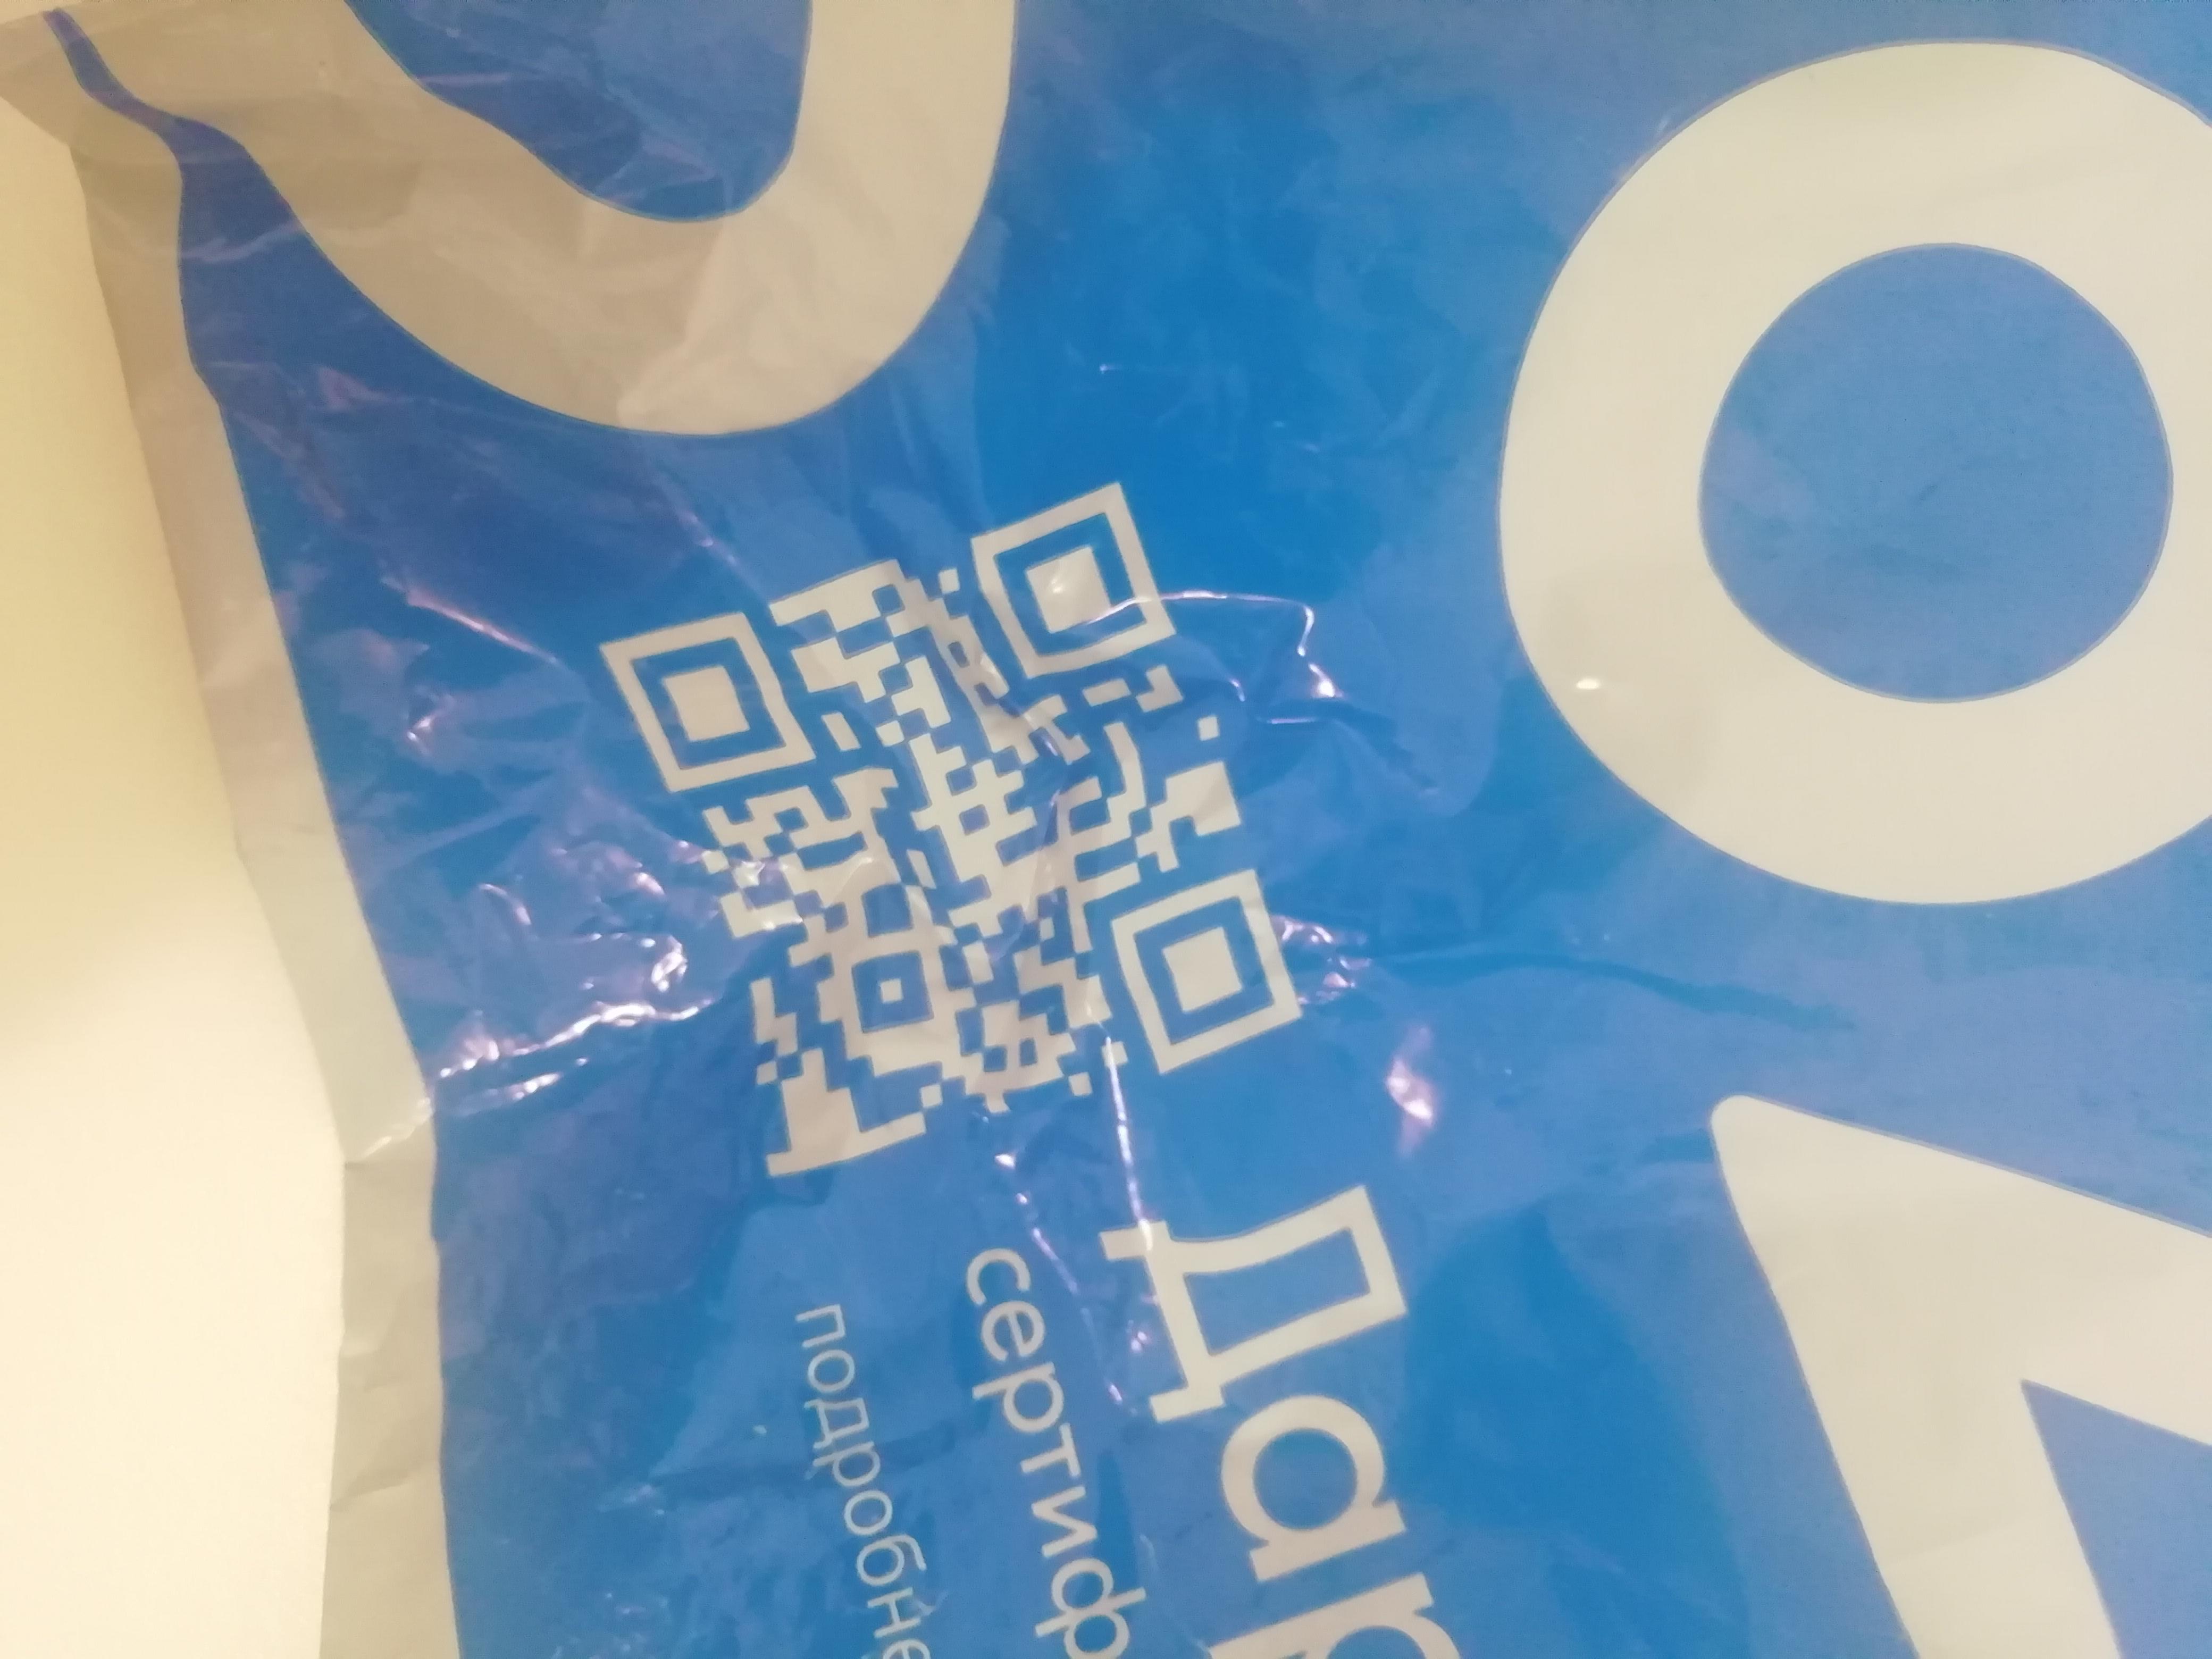qrcode: (594, 479, 1312, 1183)
